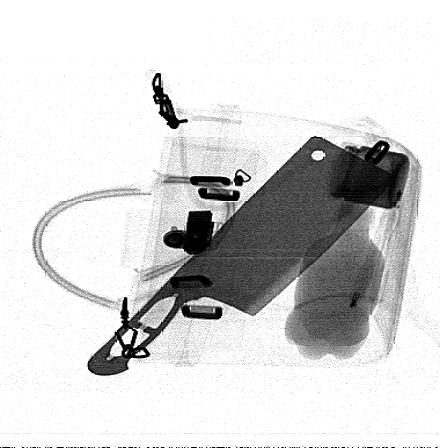Knife: (85, 132, 402, 377)
